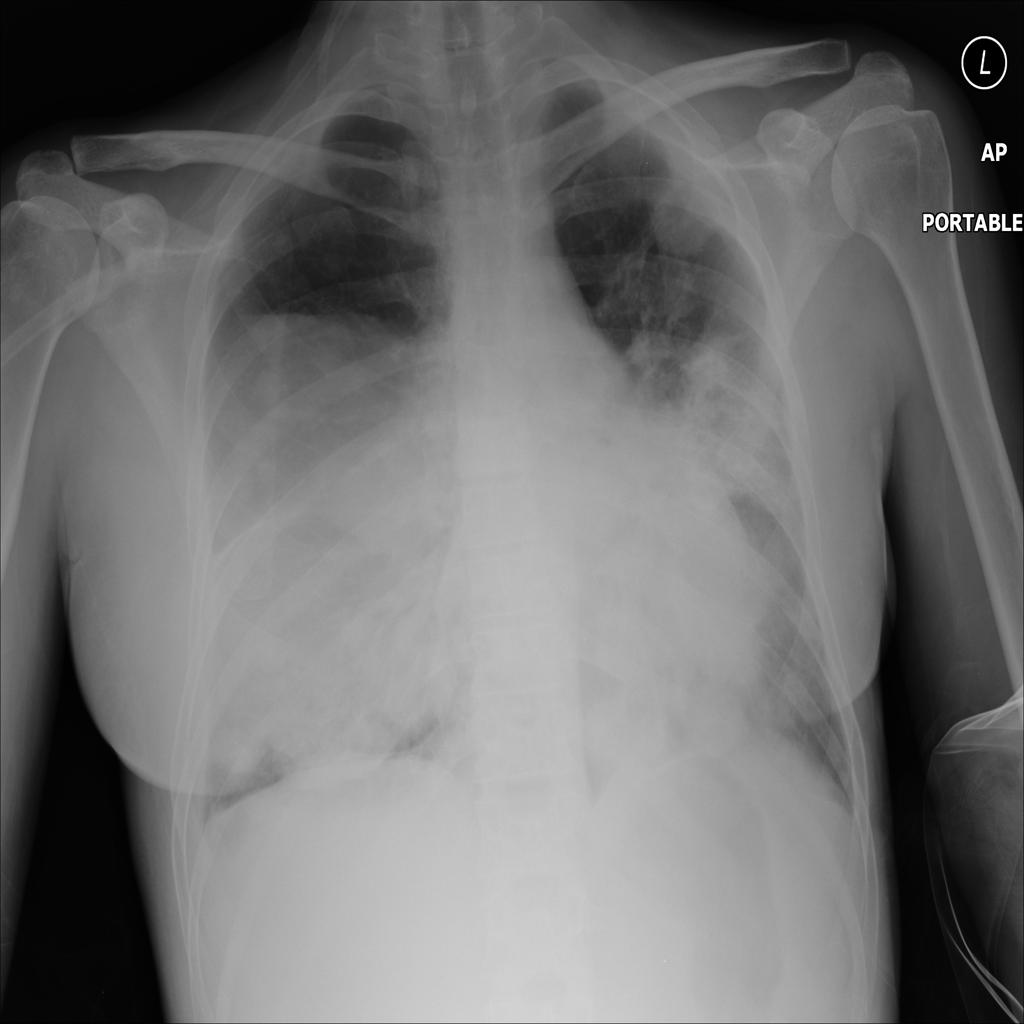nodule: (633, 160, 737, 267)
